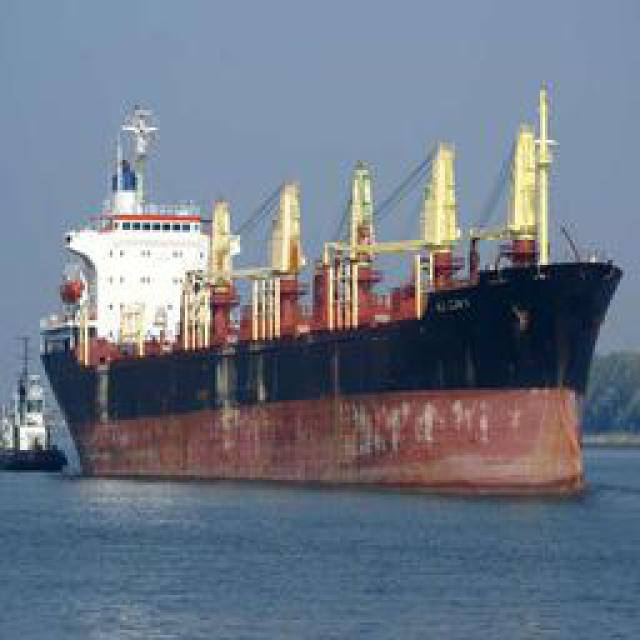Ship: (37, 97, 625, 490)
